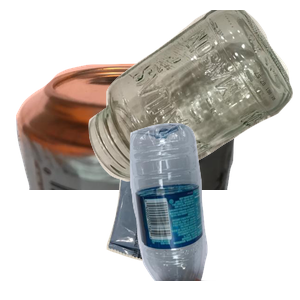glass: (86, 10, 300, 184)
metal: (13, 61, 240, 241)
plastic: (127, 120, 300, 300)
trash: (104, 152, 280, 300)
